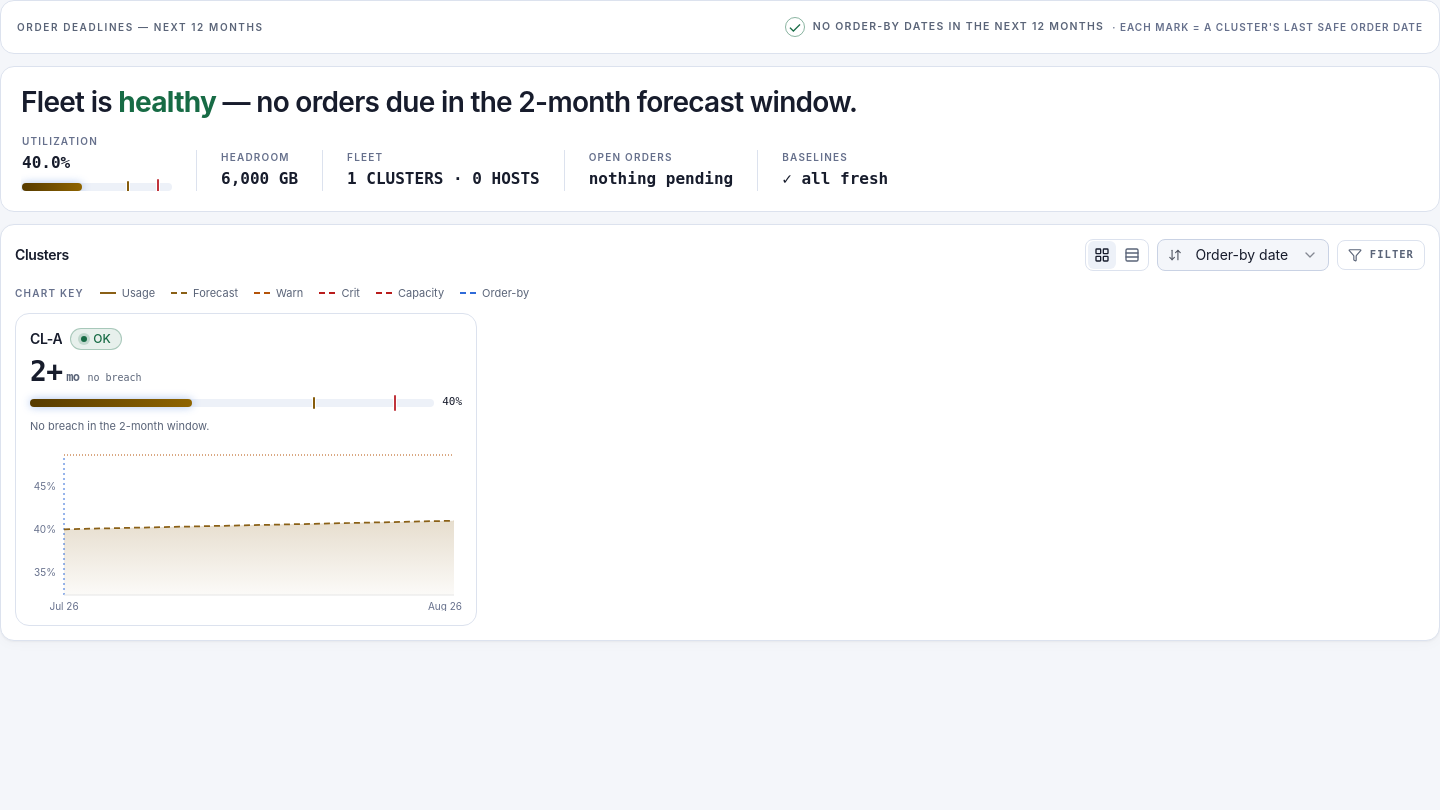
<FleetConsole> Clusters pane + sort (#267) › exposes the sort control with an accessible name and all three options
The width and height of the screenshot is (1440, 810).
Click the dropdown named "Sort clusters".
click(1243, 255)  # box [1157, 239, 1329, 271]
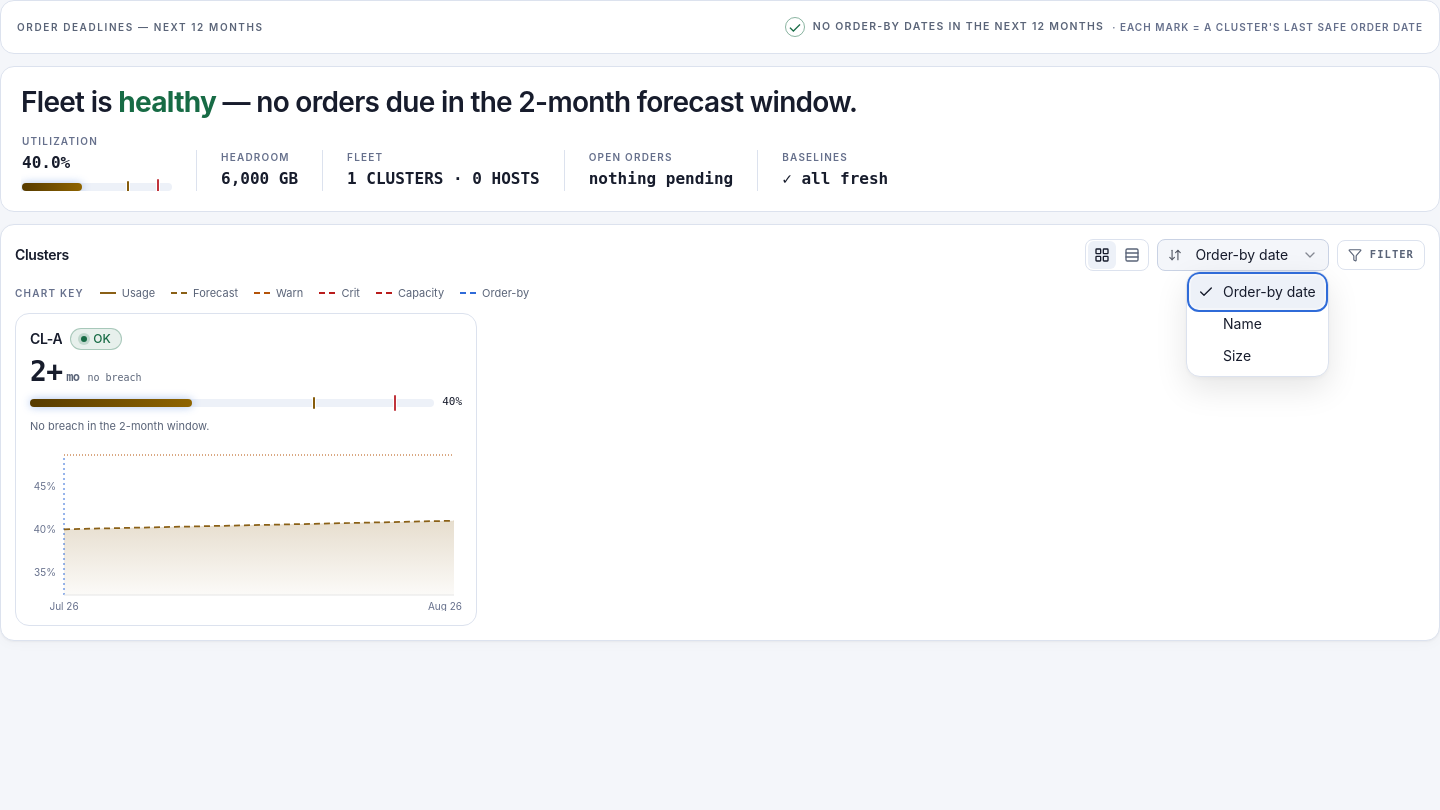
Check: the option "Order-by date" is shown, box [1191, 276, 1324, 308]
Check: the option "Name" is shown, box [1223, 315, 1262, 332]
Check: the option "Size" is shown, box [1223, 347, 1251, 364]
